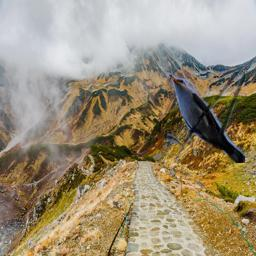Cuckoo: (167, 72, 245, 163)
